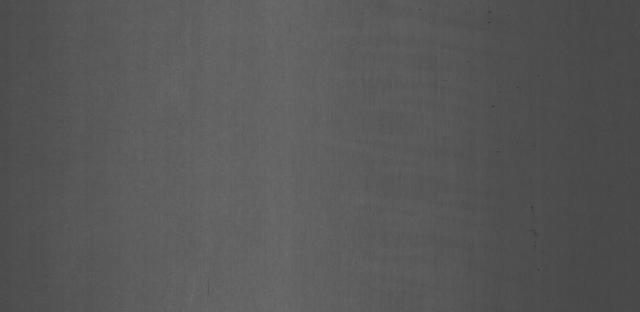inclusion: (488, 99, 507, 115), (528, 199, 538, 212)
